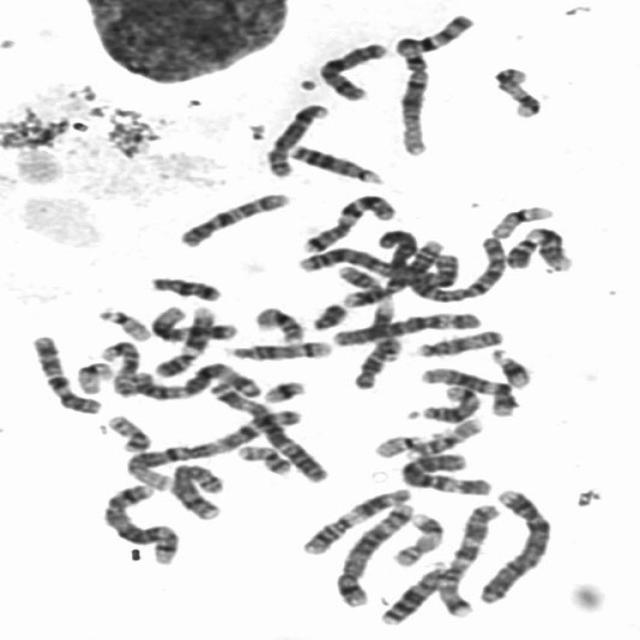A1: (116, 402, 304, 492), (388, 8, 478, 158)
A2: (291, 240, 465, 289), (399, 229, 512, 304)
A3: (203, 375, 333, 484), (120, 356, 264, 402)
B4: (470, 482, 555, 606), (335, 223, 422, 310)
B5: (328, 495, 416, 608), (95, 478, 182, 566)
C10: (170, 186, 294, 249), (23, 328, 104, 416)
C11: (295, 481, 413, 556), (331, 257, 405, 363)
C12: (413, 362, 519, 418), (144, 300, 240, 342)
C6: (325, 305, 485, 347), (393, 446, 495, 497)
C7: (431, 498, 504, 618), (295, 188, 399, 254)
C8: (259, 96, 332, 178), (163, 457, 228, 522)
C9: (146, 301, 220, 377), (500, 221, 575, 272)
D13: (373, 555, 452, 627), (282, 138, 384, 185)
D14: (409, 380, 483, 424), (217, 335, 334, 362)
D15: (407, 323, 507, 358), (94, 335, 142, 398)
E16: (400, 411, 487, 458), (246, 301, 307, 345)
E17: (385, 506, 447, 567), (486, 61, 544, 120)
E18: (345, 336, 402, 390), (141, 269, 223, 303)
F19: (482, 200, 557, 240), (67, 356, 116, 396)
F20: (229, 438, 295, 477), (100, 409, 154, 454)
G21: (483, 341, 535, 390), (257, 374, 309, 405)
G22: (90, 301, 153, 342), (366, 428, 424, 459)
X: (309, 36, 391, 102)
Y: (304, 297, 350, 331)
